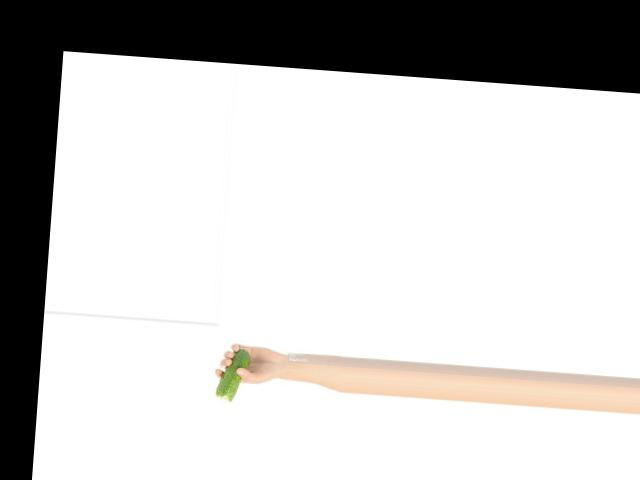cucumber: (216, 346, 251, 402)
